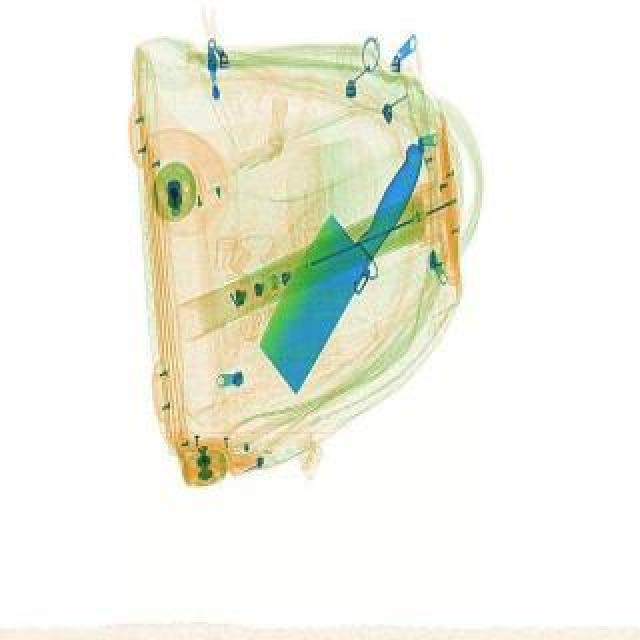knife: (232, 124, 452, 392)
